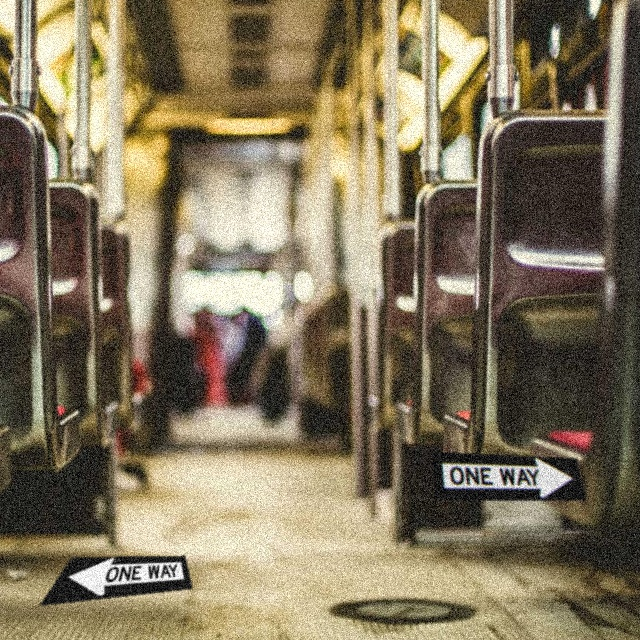ONE_WAY_ left: (38, 555, 193, 606)
ONE_WAY_ right: (431, 451, 586, 501)
